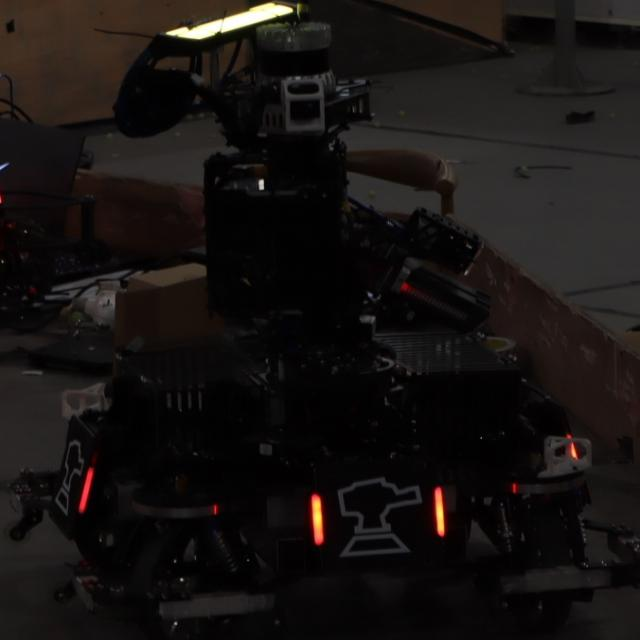Rs: (308, 468, 448, 566), (51, 430, 100, 523)
